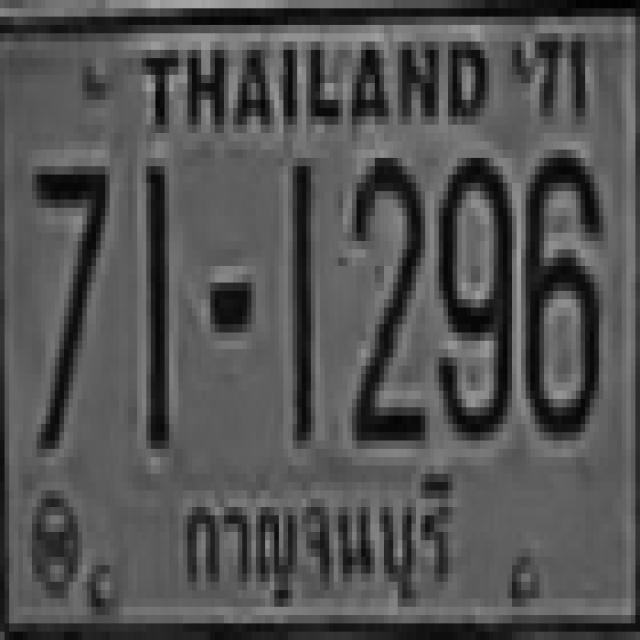1: (288, 158, 311, 440), (144, 162, 162, 445)
2: (348, 154, 420, 436)
6: (521, 142, 599, 432)
7: (32, 158, 105, 449)
9: (434, 150, 508, 432)
Kanchanaburi: (170, 462, 465, 618)
